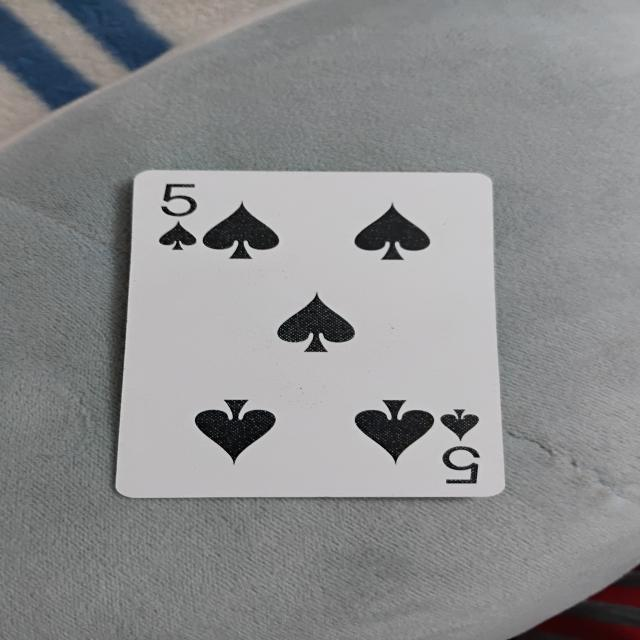5S: (100, 173, 495, 502)
